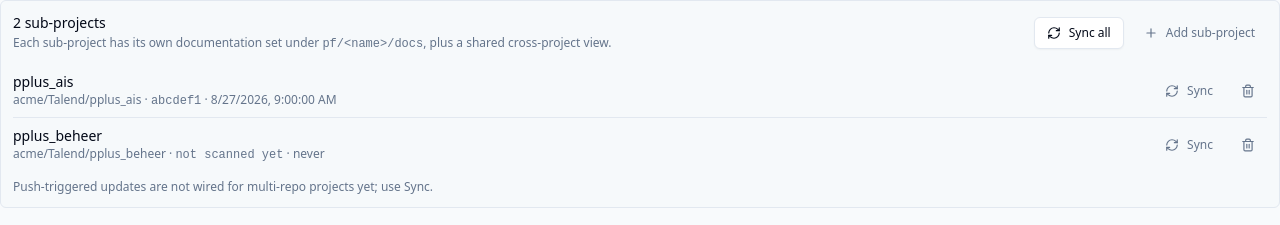
Test case: MultiRepoMembersPanel › surfaces a failed member sync
The image size is (1280, 225).
Expected: the text "pplus_ais" is shown, [13,72,74,91]
Click the button "Sync all": (1079, 32) [1034,16,1124,48]
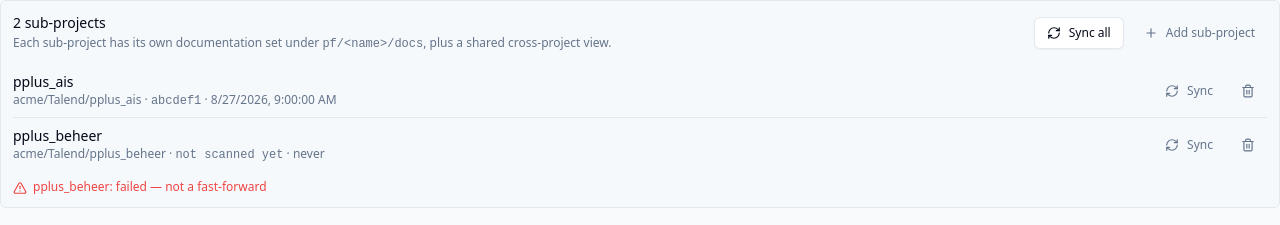
Now the text "pplus_beheer: failed — not a fast-forward" is shown, box [33,179,267,195]
